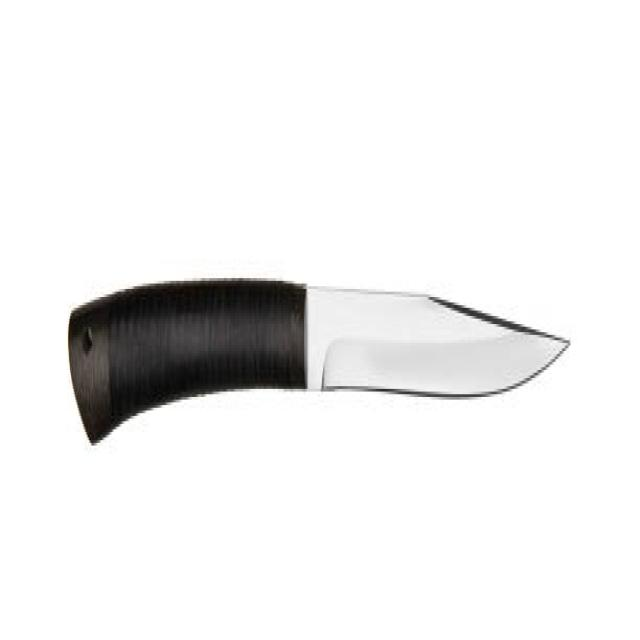knife: (67, 260, 574, 460)
